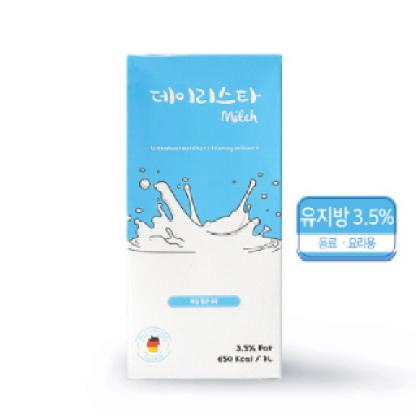tetra: (106, 29, 300, 399)
